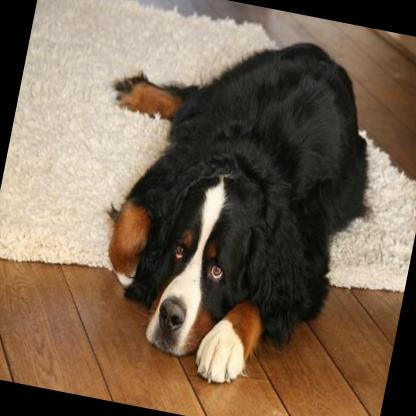Bernese_mountain_dog: (60, 4, 398, 404)
